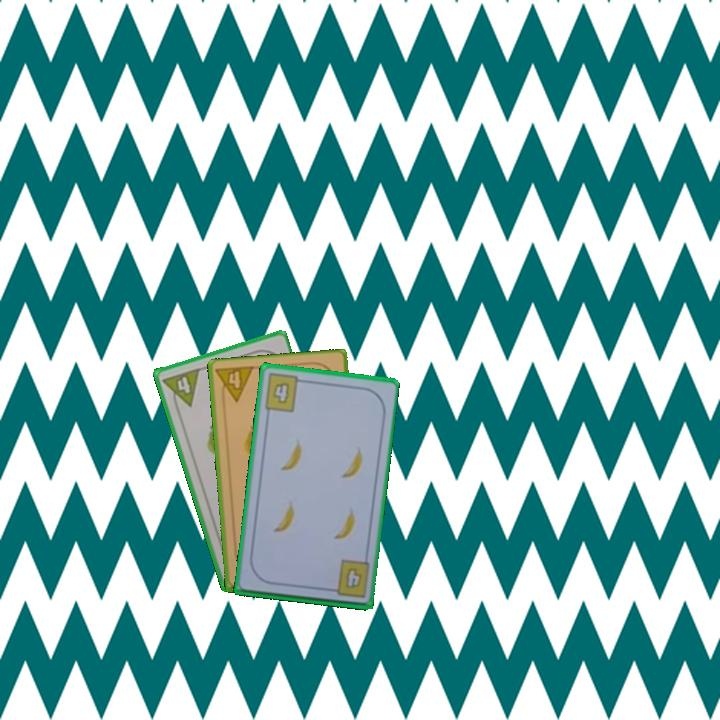4b: (261, 370, 308, 415), (324, 557, 372, 601)
4p: (159, 364, 202, 413), (212, 363, 257, 407)
